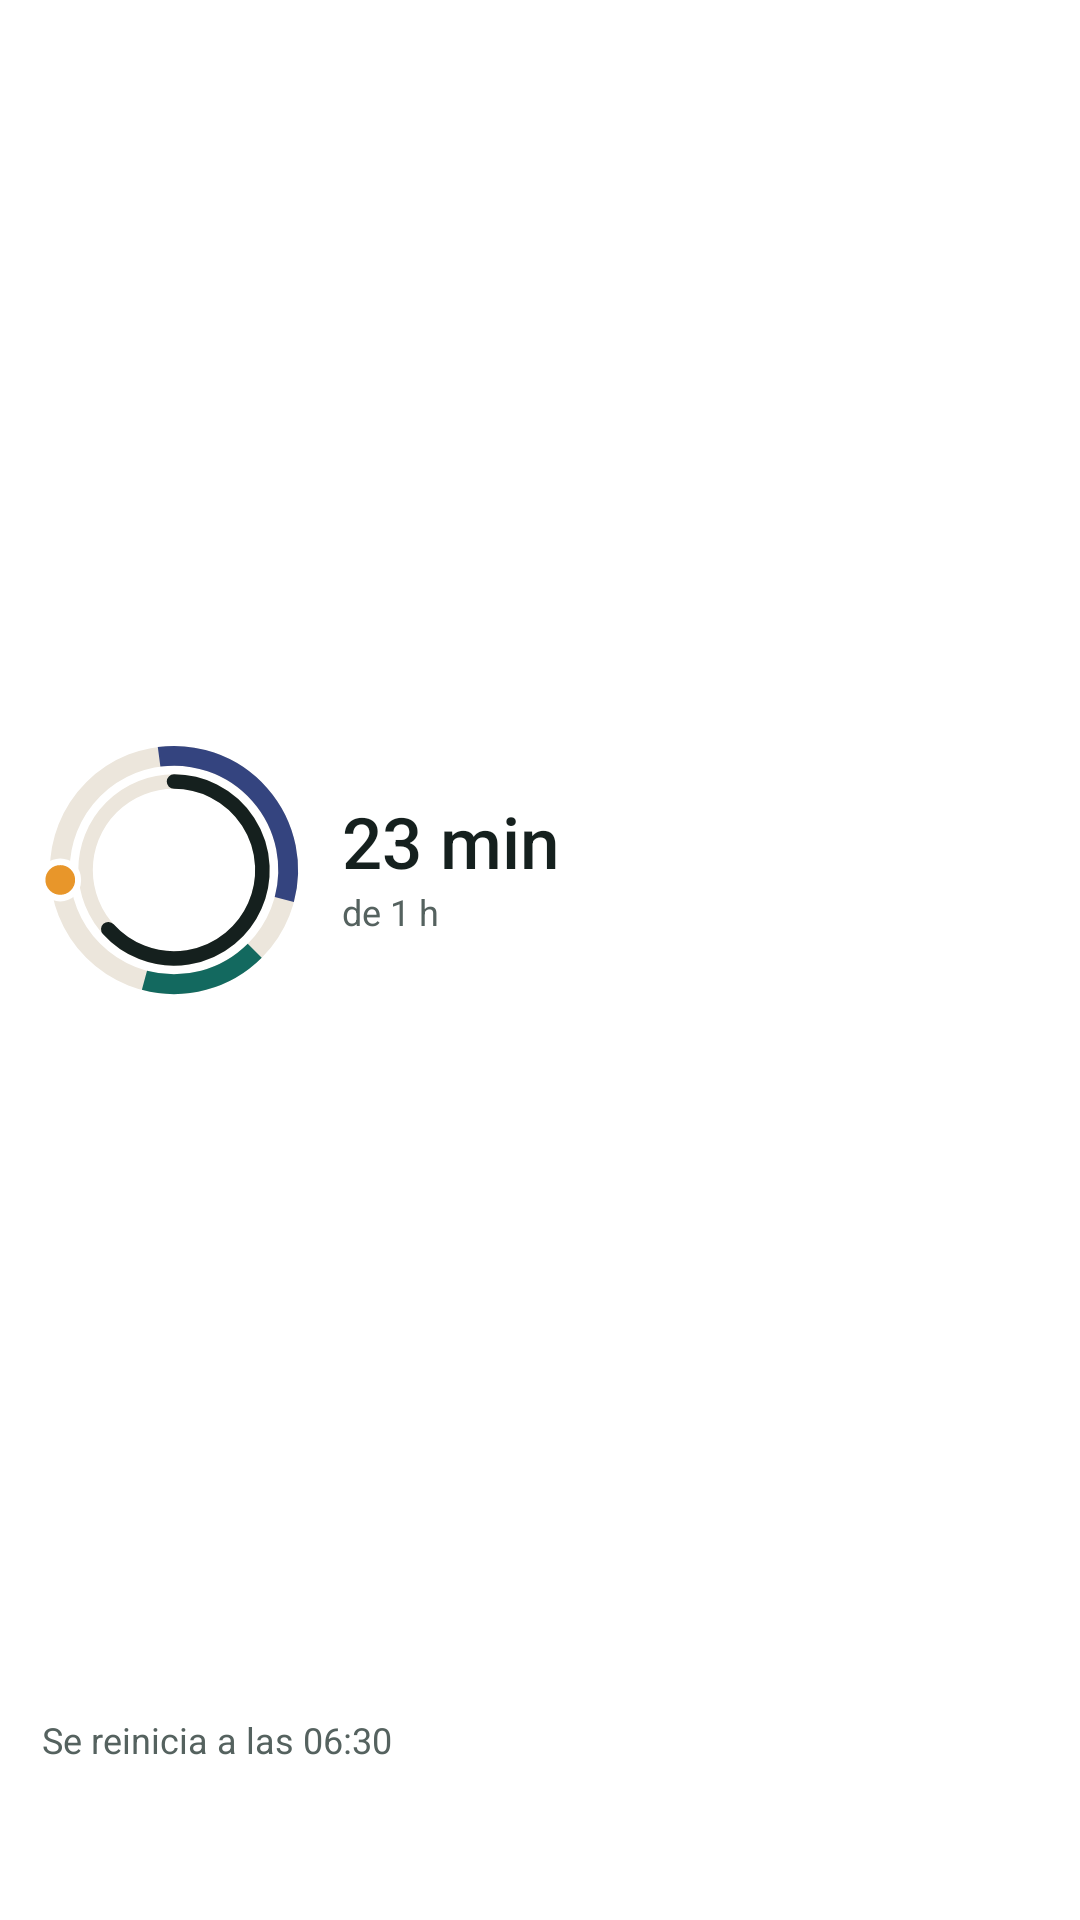

Where icons sit on this 1080*1920 app screen, as box(x1, y1, x2, y2):
widget ring: box(45, 746, 298, 995)
